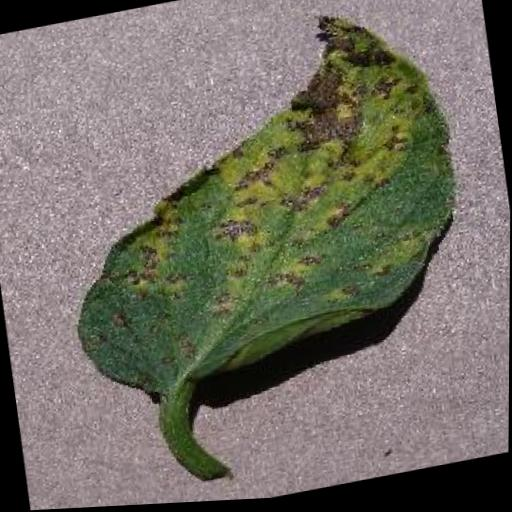Septoria: (43, 0, 480, 420)
